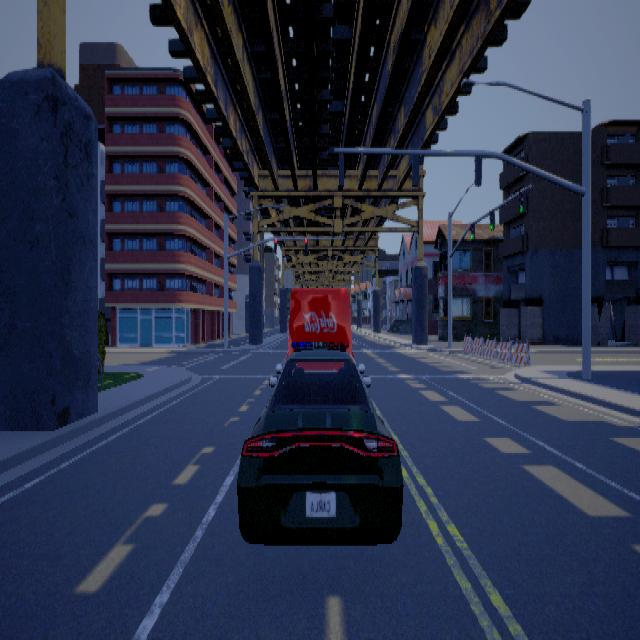green_light: (520, 189, 527, 212), (490, 207, 496, 229), (471, 221, 476, 239)
red_light: (275, 238, 278, 252), (306, 238, 309, 252)
vehicle: (240, 347, 405, 544), (288, 278, 355, 423)
